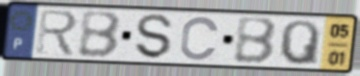B: (232, 16, 279, 66), (77, 10, 123, 60)
C: (178, 15, 222, 62)
Q: (278, 18, 322, 67)
R: (35, 8, 81, 59)
S: (135, 13, 175, 62)
